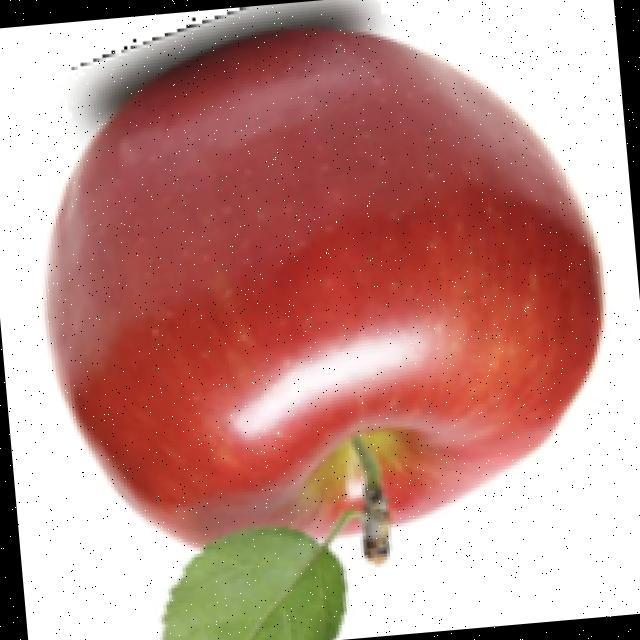apple: (39, 0, 611, 640)
